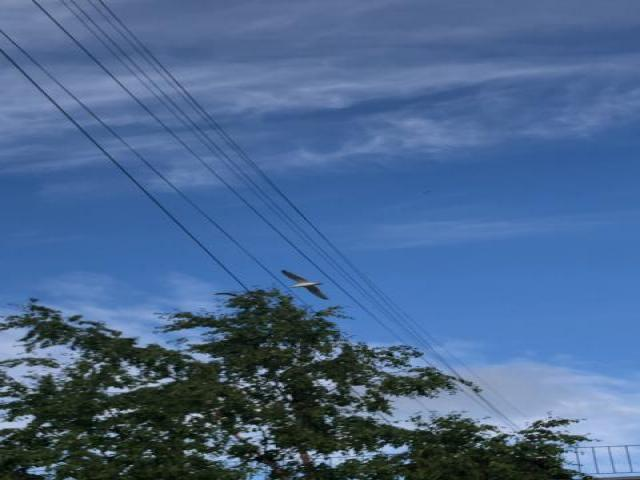bird: (264, 266, 356, 300)
